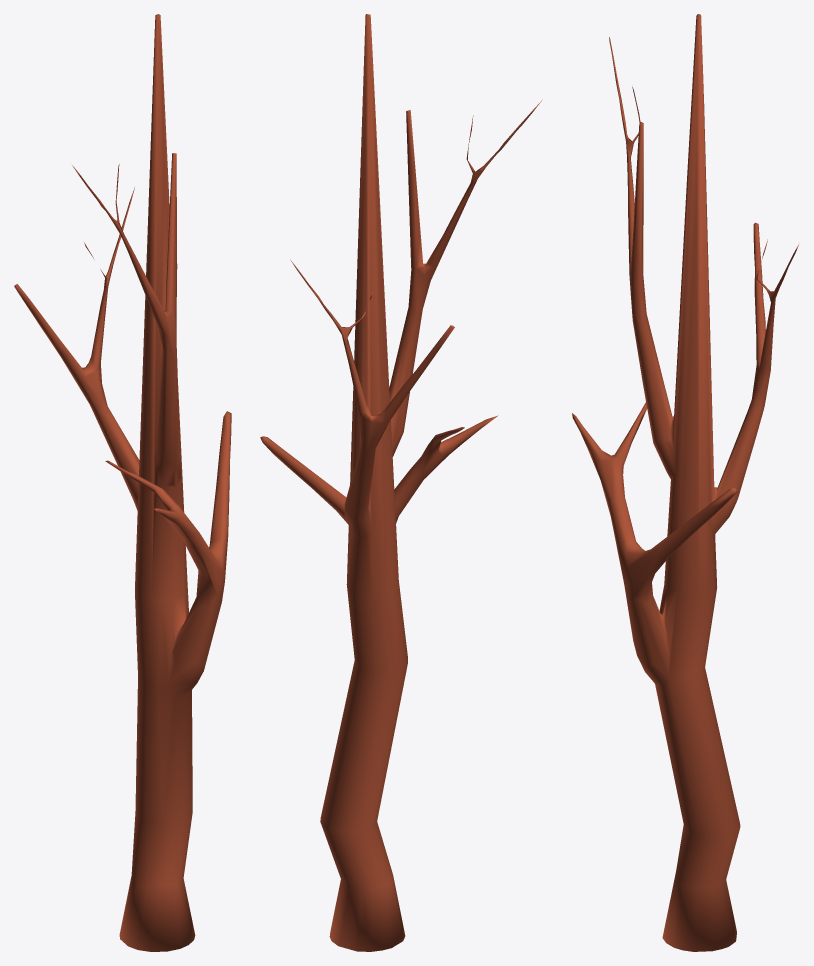
Rendered from tree4_test.fbx.
3 renders of one model, left to right at view 1: azimuth 30°, elevation 25°; view 2: azimuth 150°, elevation 25°; view 3: azimuth 270°, elevation 25°, orthographic.
Parts seen in each view (by area): view 1: Cylinder.010; view 2: Cylinder.010; view 3: Cylinder.010.
Boxes of the visible parts, left/top/right/bottom form: Cylinder.010: left=14, top=14, right=231, bottom=951; Cylinder.010: left=260, top=14, right=542, bottom=951; Cylinder.010: left=572, top=14, right=798, bottom=951.
Size of the model in its own units: 905 by 3591 by 805.
